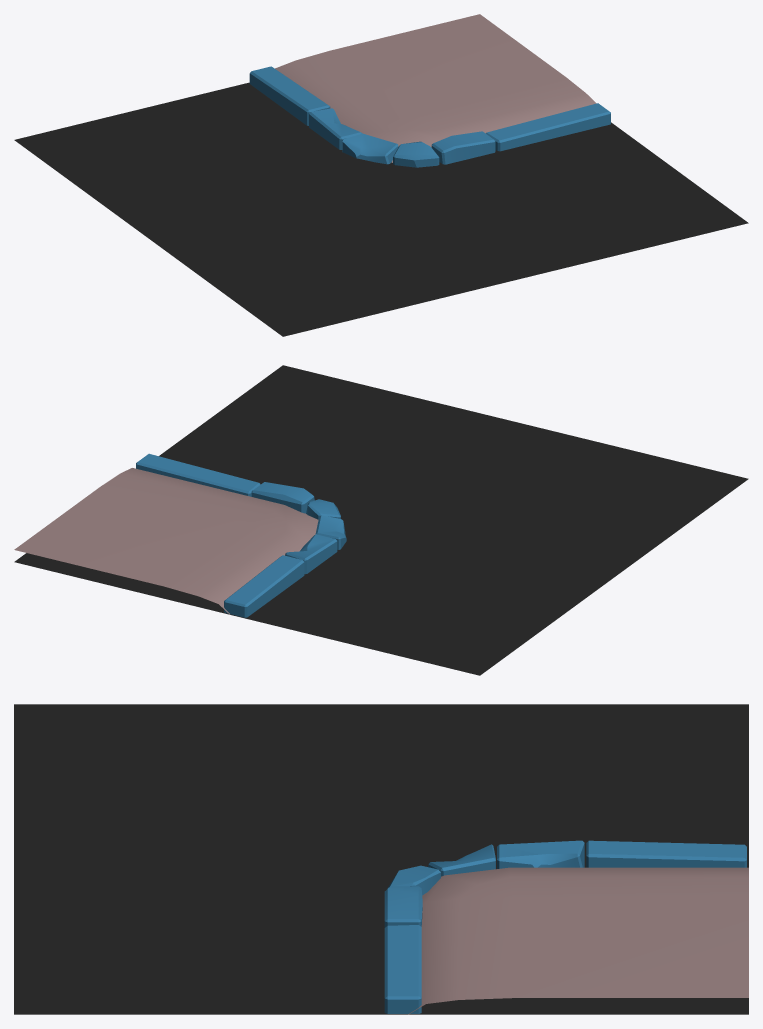
File: notrans corner out lod0.FBX
3 renders of one model, top to bottom at view 1: azimuth 30°, elevation 25°; view 2: azimuth 150°, elevation 25°; view 3: azimuth 270°, elevation 25°, orthographic. The views are drawn at different scales.
Visible parts, largest first — view 1: Object1206; view 2: Object1206; view 3: Object1206.
Part boxes in pixels (box(x1,y1,x2,y2)): Object1206: box(14, 14, 748, 336); Object1206: box(14, 365, 748, 675); Object1206: box(14, 704, 748, 1014).
Size of the model in its own units: 3 by 0.0974 by 3.
